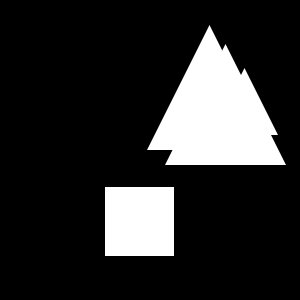circle: (105, 187, 174, 256)
triangle: (147, 25, 272, 150), (165, 44, 286, 165), (211, 68, 278, 135)
